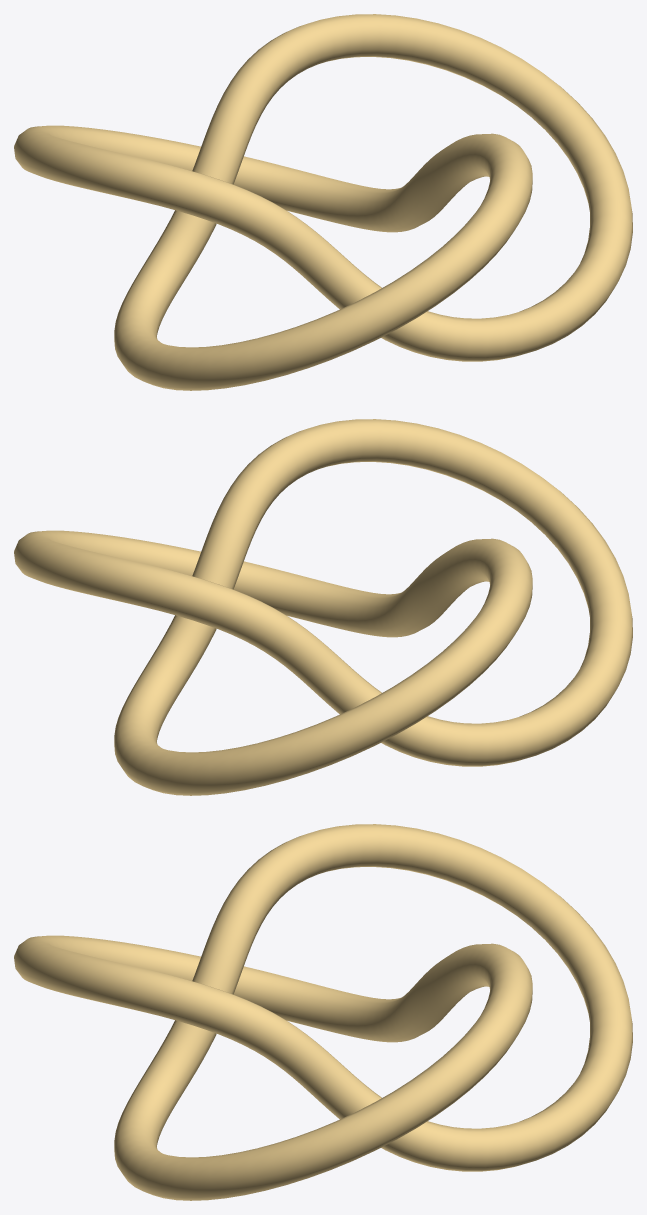
The model's file is example.gltf.
The picture shows the model from 3 angles, top to bottom: view 1: azimuth 30°, elevation 25°; view 2: azimuth 150°, elevation 25°; view 3: azimuth 270°, elevation 25°; orthographic projection.
Visible parts, largest first — view 1: torus_knot; view 2: torus_knot; view 3: torus_knot.
Part boxes in pixels (x1,y1,x2,y2): torus_knot: (14, 14, 632, 390); torus_knot: (14, 419, 632, 795); torus_knot: (14, 824, 632, 1200).
Bounding box in the file's own units: 2.72 × 0.9934 × 2.85.
